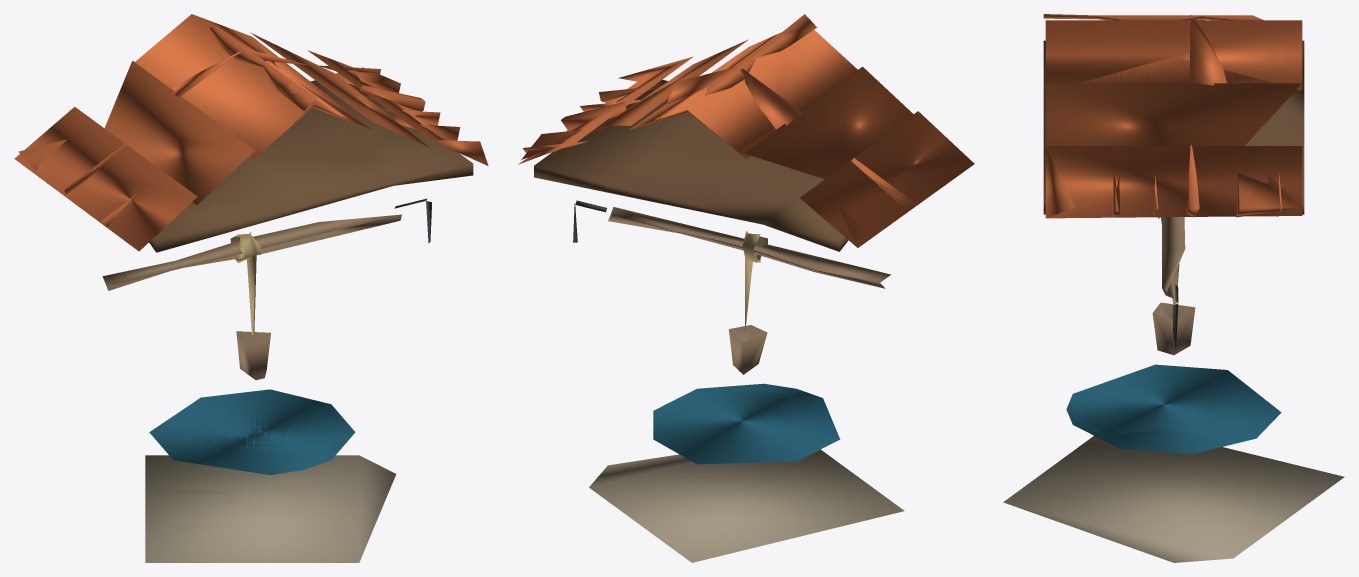
Rendered from water_well.glb.
3 views of the same model, side by side, from view 1: azimuth 30°, elevation 25°; view 2: azimuth 150°, elevation 25°; view 3: azimuth 270°, elevation 25° (orthographic). The views are drawn at different scales.
Visible parts, largest first — view 1: stone, wood_dark, terracotta1, terracotta0, terracotta2, water.001, wood, rope.001; view 2: stone, wood_dark, terracotta1, terracotta0, water.001, terracotta2, wood, rope.001; view 3: stone, terracotta1, terracotta2, terracotta0, water.001, wood, wood_dark.
Boxes of the visible parts, x1,y1,x2,y2 form: stone: (145, 455, 396, 562); wood_dark: (149, 80, 473, 252); terracotta1: (18, 26, 460, 226); terracotta0: (14, 50, 488, 251); terracotta2: (135, 14, 440, 159); water.001: (149, 389, 355, 475); wood: (102, 214, 401, 380); rope.001: (230, 232, 260, 334); stone: (589, 449, 904, 562); wood_dark: (534, 79, 848, 251); terracotta1: (521, 14, 941, 240); terracotta0: (518, 56, 974, 247); water.001: (653, 383, 840, 464); terracotta2: (522, 30, 857, 158); wood: (608, 207, 890, 374); rope.001: (742, 231, 767, 332); stone: (1003, 436, 1344, 562); terracotta1: (1043, 14, 1301, 217); terracotta2: (1045, 15, 1302, 216); terracotta0: (1045, 144, 1302, 218); water.001: (1066, 364, 1281, 453); wood: (1152, 217, 1195, 355); wood_dark: (1043, 40, 1304, 214).
Bounding box in the file's own units: 2.51 × 3.03 × 1.97.
